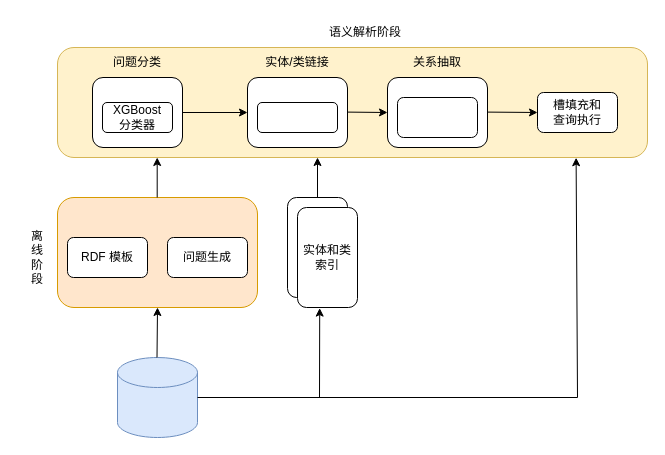
This 665x455 diagram has some shape labels left out. The shapes that lost their labels are listed below. From the top down, each one's centre as x and y in pixels, then its label:
At (297,117): "语义相似性".
At (437,117): "MLP分类器".
At (157,397): "知识图谱（KG）".
